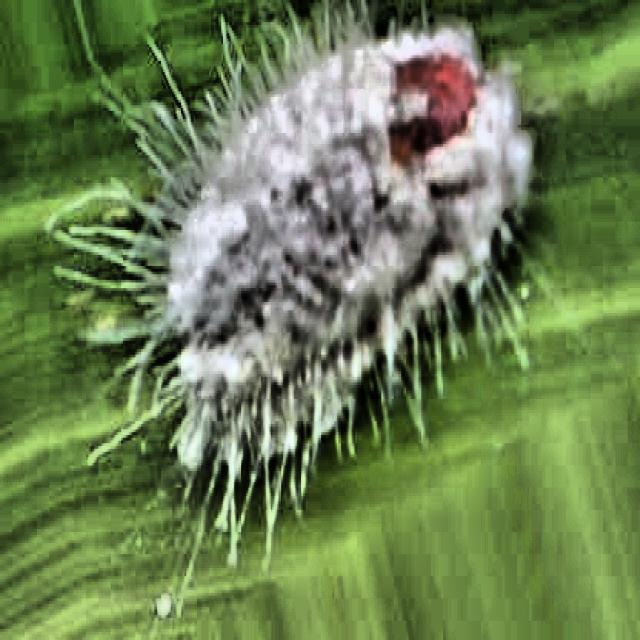Mealy-bug: (70, 5, 574, 570)
